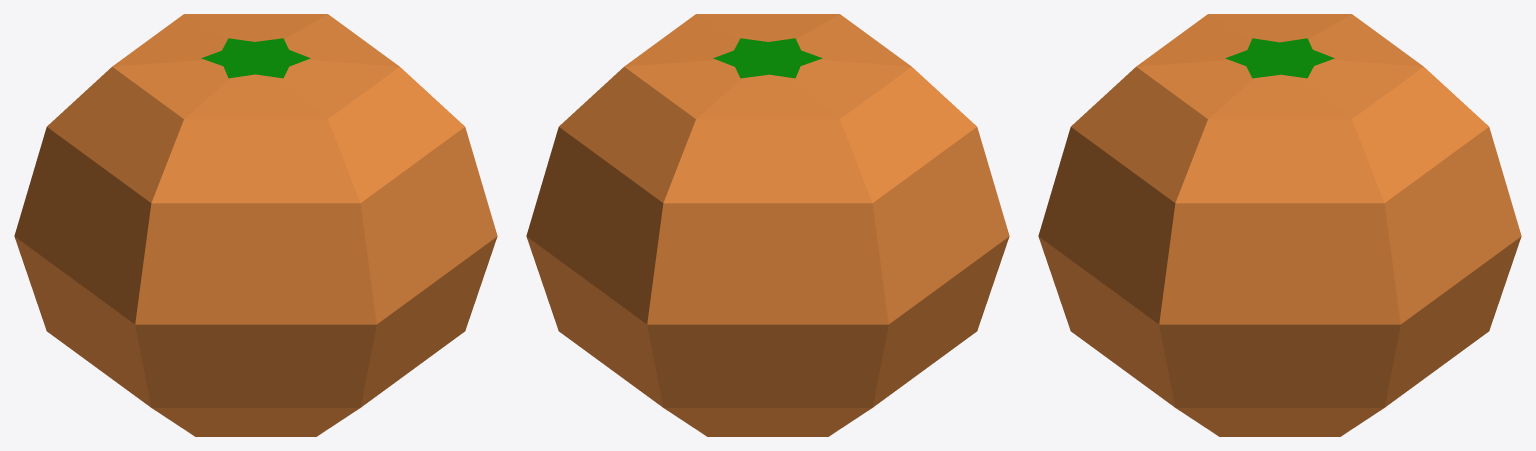
The model's file is Orange.fbx.
The picture shows the model from 3 angles, left to right: view 1: azimuth 30°, elevation 25°; view 2: azimuth 150°, elevation 25°; view 3: azimuth 270°, elevation 25°; orthographic projection.
Parts seen in each view (by area): view 1: Portakal; view 2: Portakal; view 3: Portakal.
Part boxes in pixels (left/top/right/bottom): Portakal: left=14, top=14, right=497, bottom=436; Portakal: left=526, top=14, right=1009, bottom=436; Portakal: left=1038, top=14, right=1521, bottom=436.
Bounding box in the file's own units: 173 × 158 × 200.
